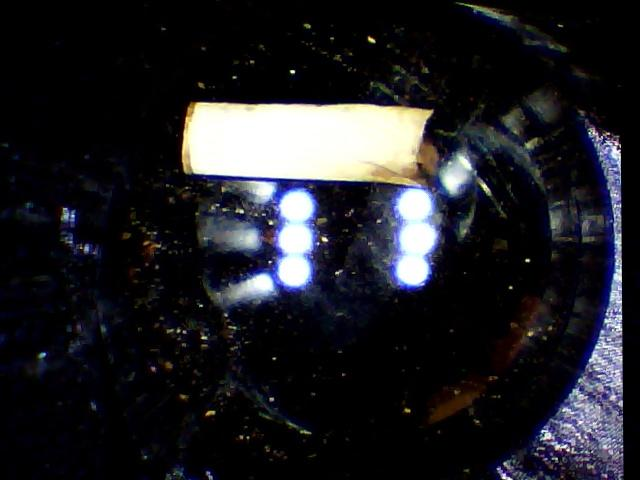megot: (163, 84, 454, 205)
